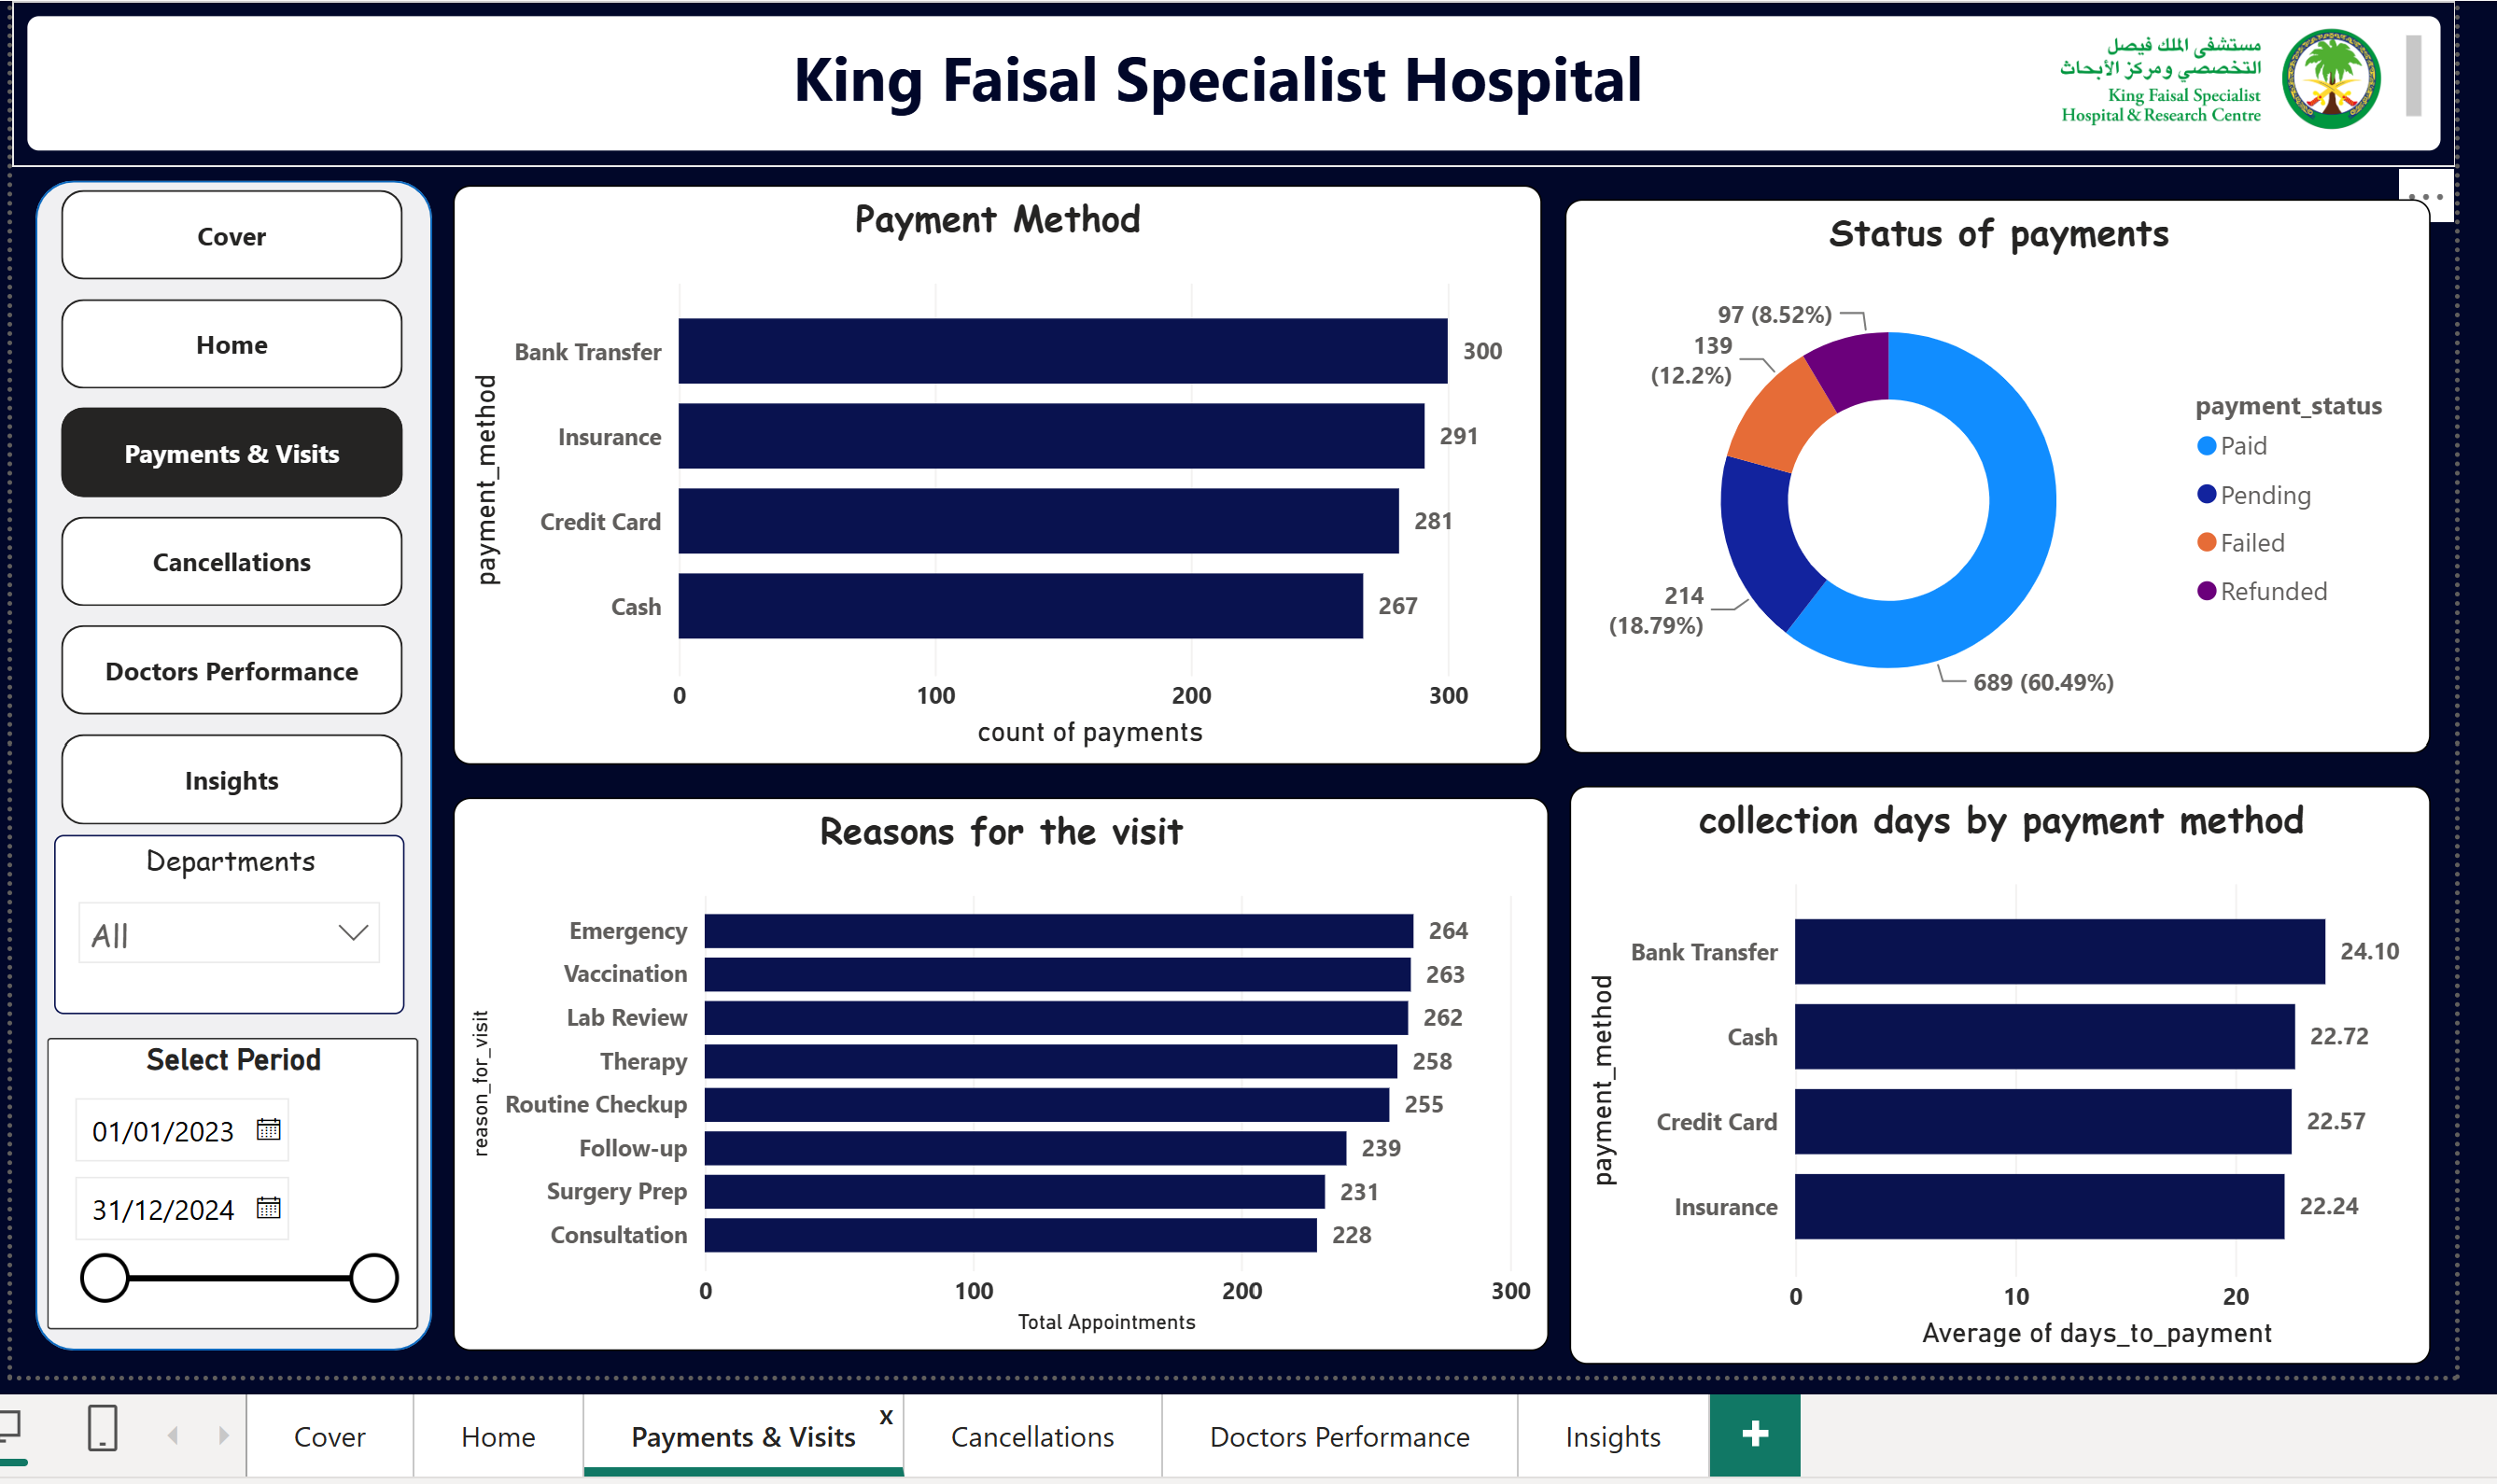

Layout of this report page (visuals, bound fields, positions):
{"tool":"powerbi","page":{"name":"Operational Details","canvas":[1280,720],"ordinal":3},"visuals":[{"type":"textbox","box":[0,0,1280,86.2],"z":0},{"type":"image","box":[1046.2,10,220,63.8],"z":1000},{"type":"barChart","title":" Cancellation Reasons","fields":{"Category":["appointments.cancellation_reason"],"Y":["appointments.count of cancellation"]},"box":[22,403.5,443.9,298.4],"z":2000},{"type":"barChart","title":"Payment Method","fields":{"Category":["billing.payment_method"],"Y":["billing.count of payments"]},"box":[22,107.6,443.9,275.1],"z":3000},{"type":"barChart","title":"Reasons for the visit","fields":{"Category":["appointments.reason_for_visit"],"Y":["appointments.Total Appointments"]},"box":[484.5,403.5,783.3,298.3],"z":4000},{"type":"barChart","title":" collection days by payment method","fields":{"Category":["billing.payment_method"],"Y":["Avg(billing.days_to_payment)"]},"box":[821.1,105.2,440,278.3],"z":5000},{"type":"slicer","title":"Select Period","fields":{"Values":["appointments.appointment_date"]},"box":[482.8,101.9,330,143.3],"z":6000},{"type":"slicer","fields":{"Values":["doctors.department"]},"box":[484.5,248.5,326.7,143.3],"z":7000},{"type":"actionButton","box":[21.9,23.3,67.1,39.7],"z":8000}]}

Visuals, with their boxes on the page's 1280x720 design canvas (x1, y1, x2, y2). These are canvas units, not pixel positions in the 2497x1484 screenshot, which may show the page scaled, cropped or inside an application window:
textbox: 0:0:1280:86
image: 1046:10:1266:74
" Cancellation Reasons" barChart: 22:404:466:702
"Payment Method" barChart: 22:108:466:383
"Reasons for the visit" barChart: 484:404:1268:702
" collection days by payment method" barChart: 821:105:1261:384
"Select Period" slicer: 483:102:813:245
slicer - doctors.department: 484:248:811:392
actionButton: 22:23:89:63
